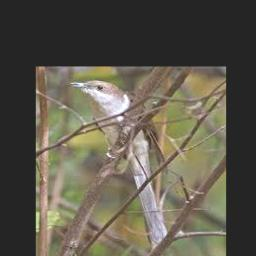Cuckoo: (72, 80, 170, 241)
